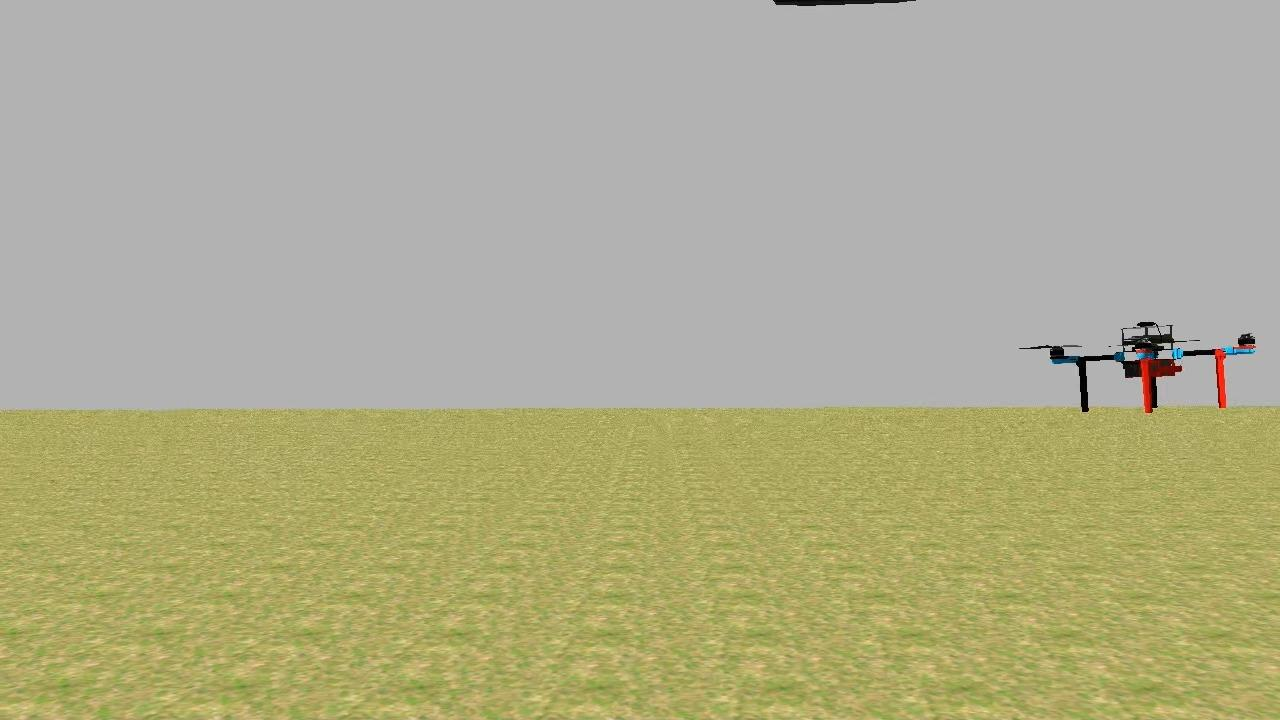UAV: (1020, 309, 1263, 424)
